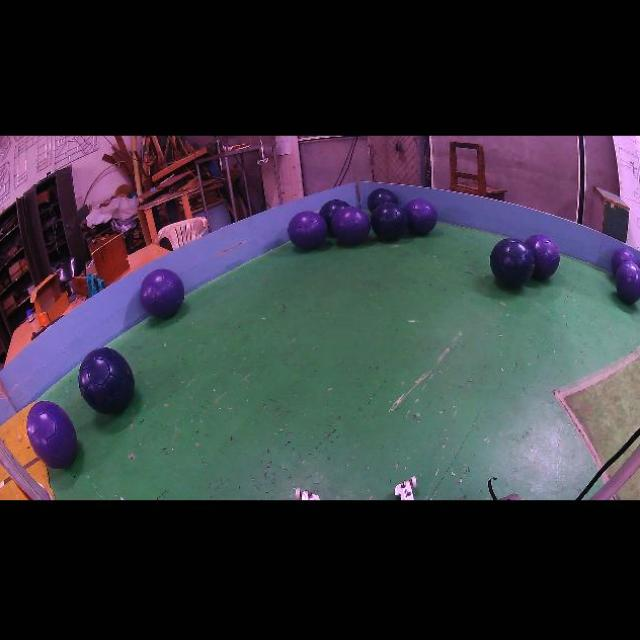B: (78, 347, 134, 414), (489, 238, 535, 288), (370, 203, 408, 239), (318, 199, 350, 231), (368, 189, 398, 212)
P: (26, 402, 77, 469), (140, 269, 184, 318), (525, 234, 559, 280), (288, 212, 327, 250), (331, 207, 370, 245), (403, 199, 437, 234), (615, 262, 640, 304), (611, 247, 636, 277)
